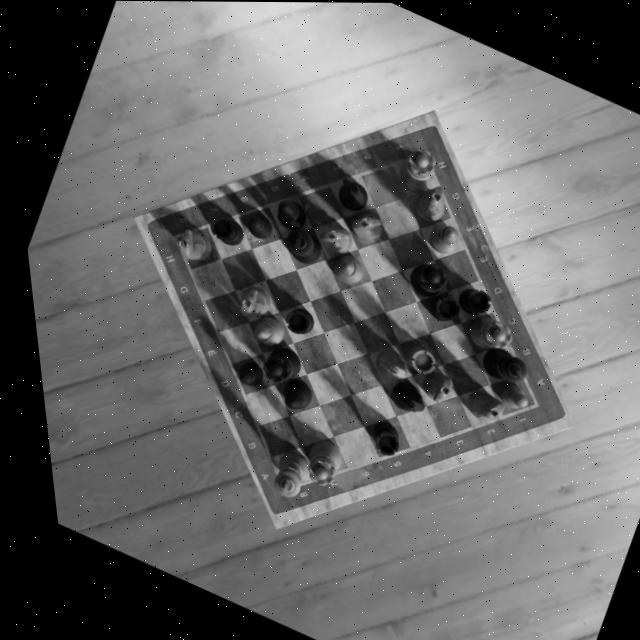chessboard: (170, 158, 528, 490)
